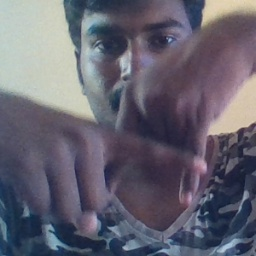H: (85, 77, 215, 212)
